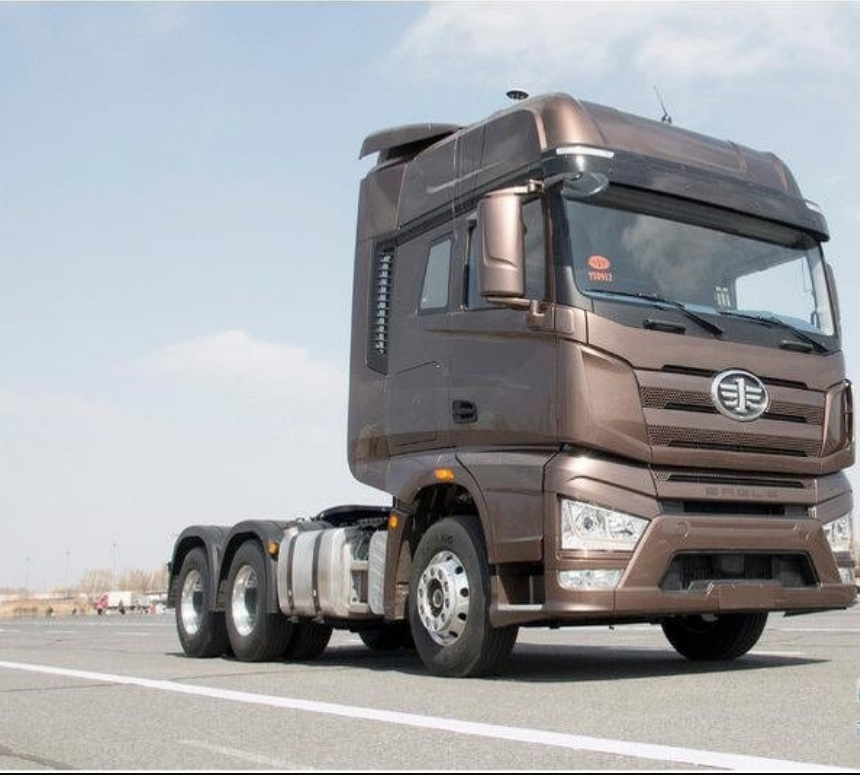heavy truck: (142, 109, 860, 697)
